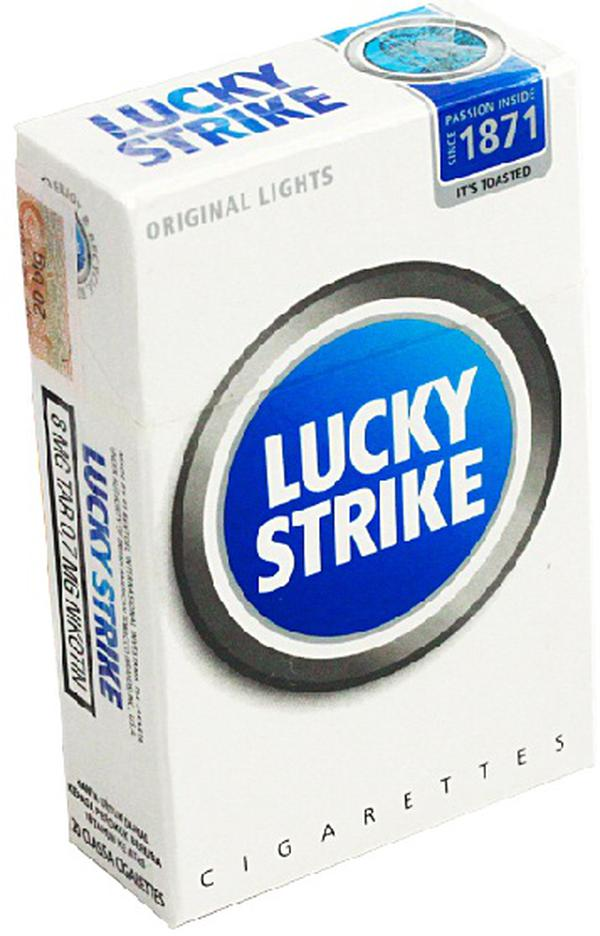lucky_strike_blue: (150, 143, 577, 790)
